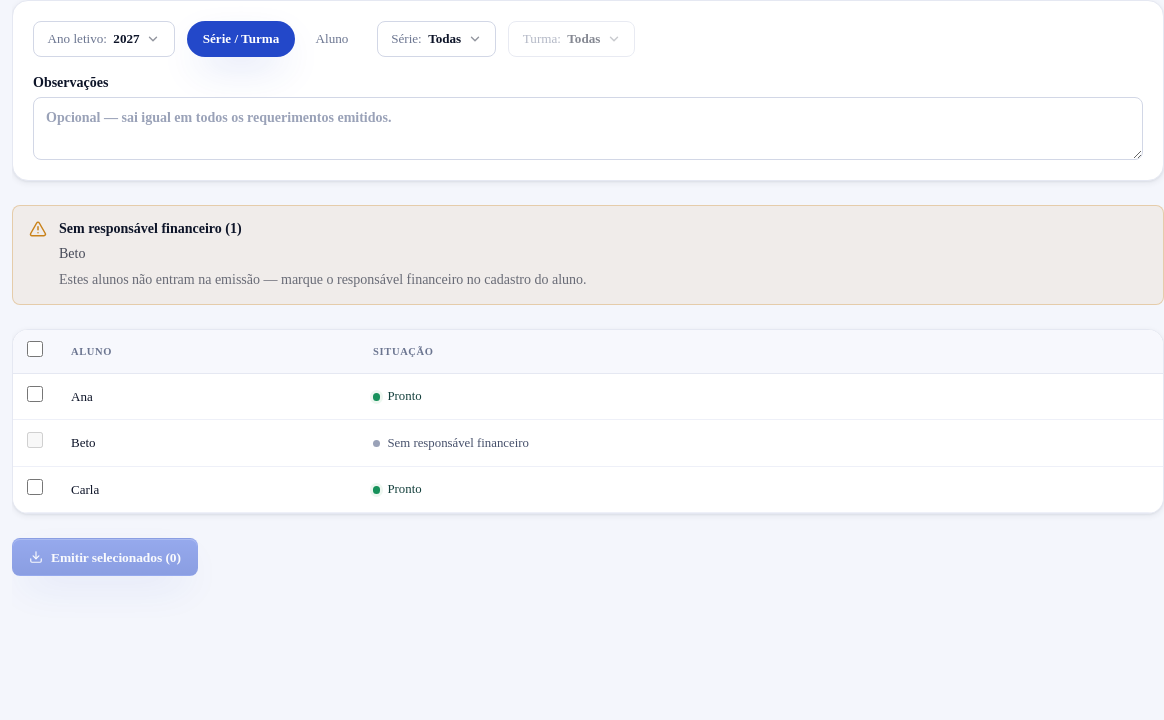
Test: RequerimentoEmissaoForm › mostra os alunos que falharam na emissão sem perder os gerados
Click the checkbox named "Marcar todos". click: (35, 349)
box: left=27, top=341, right=43, bottom=357
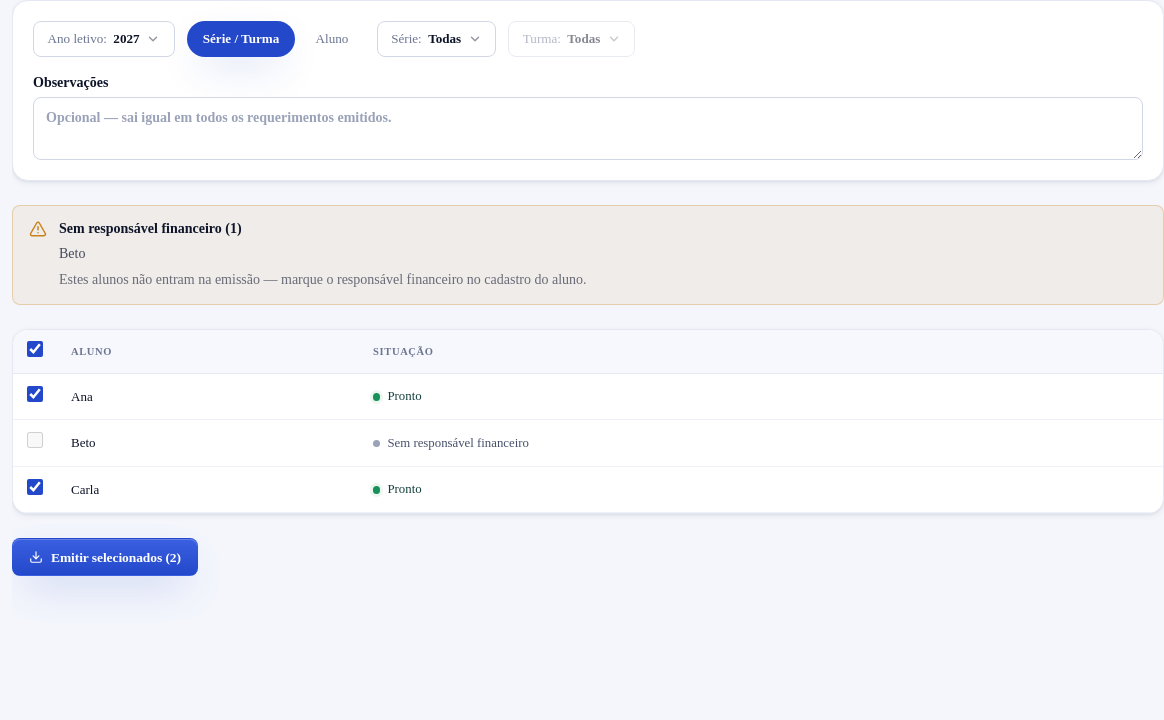
Click the button "Emitir selecionados (2)". click: (105, 557)
box: left=12, top=538, right=198, bottom=576
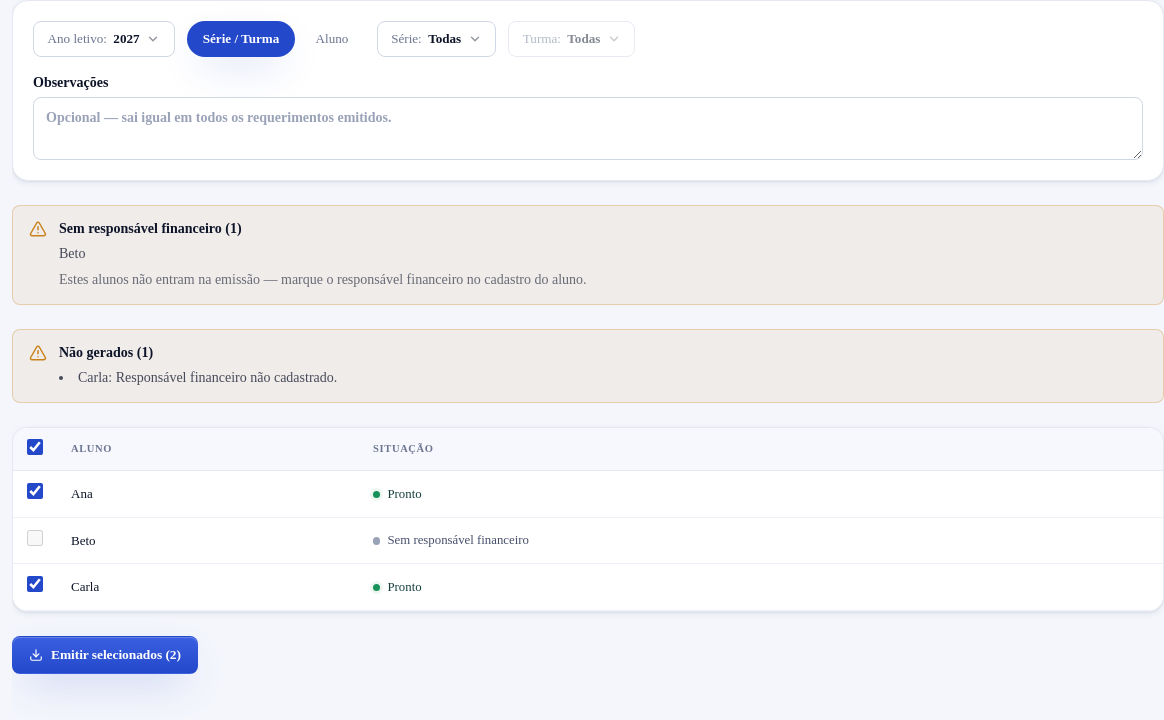
Now the text "Não gerados (1)" is shown, box left=59, top=345, right=153, bottom=360
